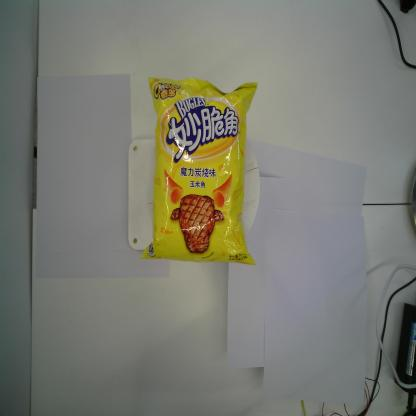Puffed Food: (139, 77, 256, 269)
